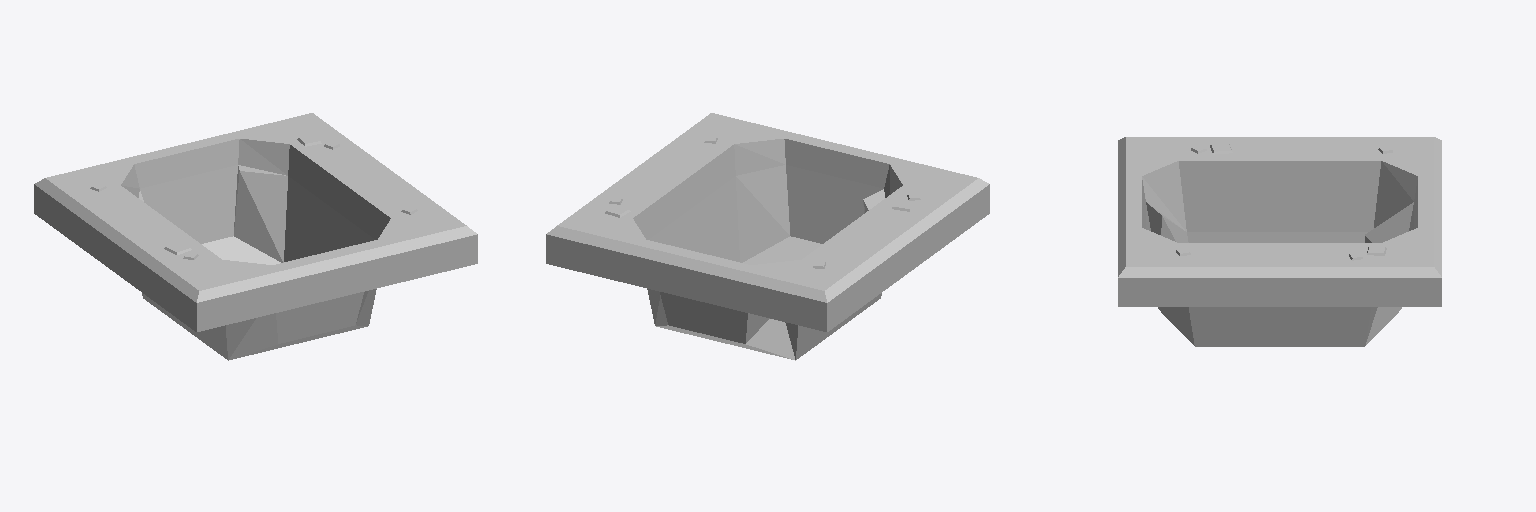
File: floor_dirt_grave.obj
3 views of the same model, side by side, from view 1: azimuth 30°, elevation 25°; view 2: azimuth 150°, elevation 25°; view 3: azimuth 270°, elevation 25° (orthographic).
Visible parts, largest first — view 1: floor_dirt_grave_Cube.135; view 2: floor_dirt_grave_Cube.135; view 3: floor_dirt_grave_Cube.135.
Boxes of the visible parts, x1=… form: floor_dirt_grave_Cube.135: x1=34, y1=113, x2=477, y2=360; floor_dirt_grave_Cube.135: x1=546, y1=113, x2=989, y2=360; floor_dirt_grave_Cube.135: x1=1118, y1=137, x2=1441, y2=346.
Size of the model in its own units: 4 by 1.53 by 4.